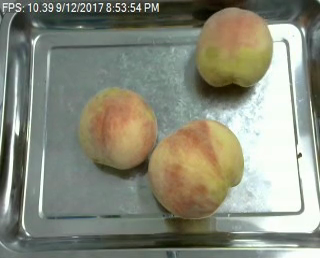Peach: (147, 118, 244, 219), (78, 87, 159, 170), (194, 6, 272, 90)
